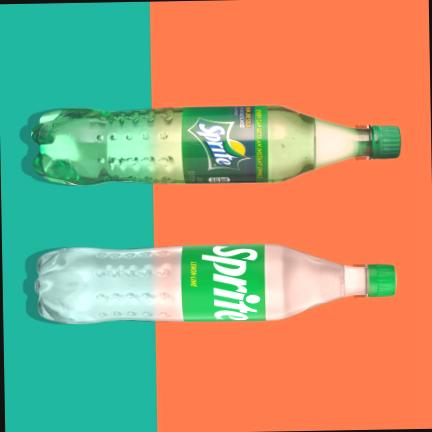container: (30, 105, 399, 185), (33, 244, 394, 323)
fluid: (30, 243, 342, 325), (35, 104, 318, 185)
fluid-surface: (311, 117, 326, 169), (335, 263, 344, 298)
